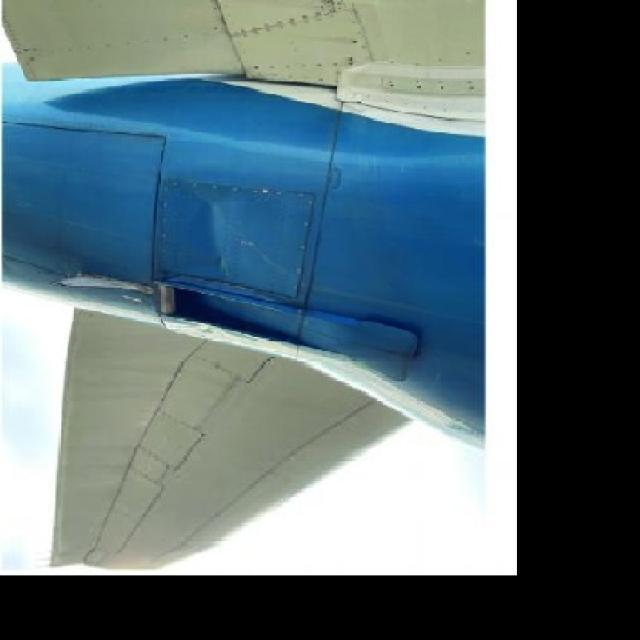dent: (181, 197, 249, 278)
